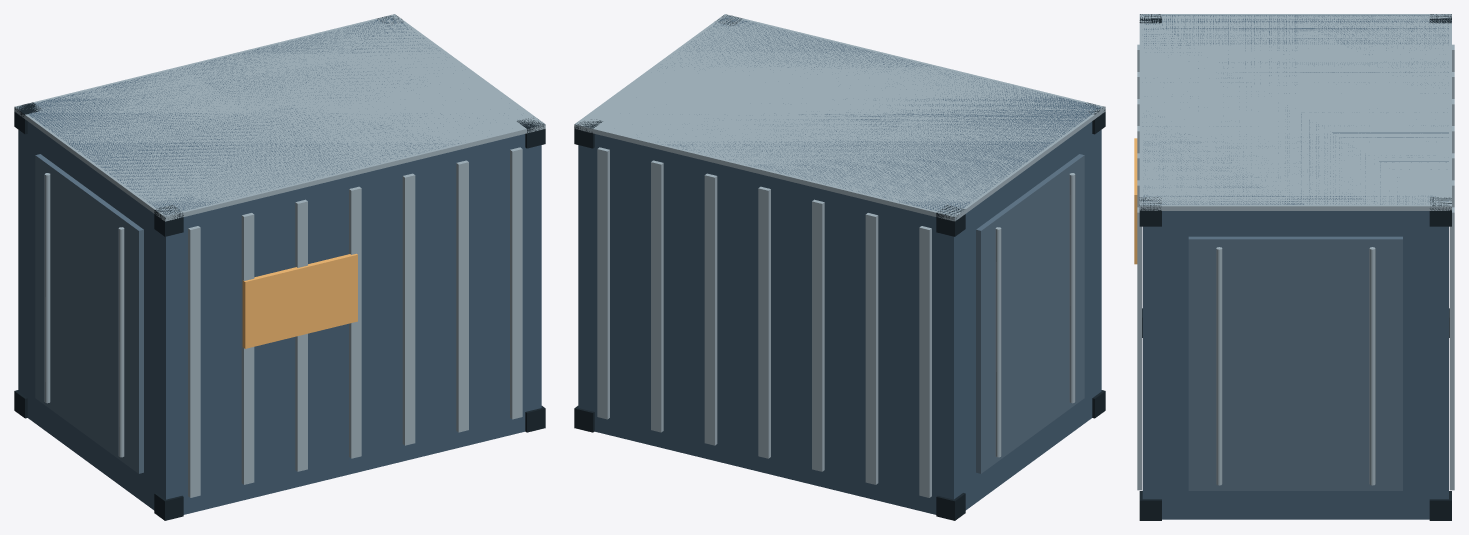
Rendered from cover-container-cp06.glb.
3 renders of one model, left to right at view 1: azimuth 30°, elevation 25°; view 2: azimuth 150°, elevation 25°; view 3: azimuth 270°, elevation 25°, orthographic. The views are drawn at different scales.
Parts seen in each view (by area): view 1: cover-container-merged (×4), Body; view 2: Body, cover-container-merged (×3); view 3: cover-container-merged (×4), Body.
Boxes of the visible parts, x1,y1,x2,y2 form: cover-container-merged (×4): [14, 14, 545, 520]; Body: [18, 16, 541, 514]; Body: [578, 16, 1101, 514]; cover-container-merged (×3): [574, 14, 1105, 520]; cover-container-merged (×4): [1134, 14, 1454, 520]; Body: [1142, 15, 1448, 519].
Bounding box in the file's own units: 4.64 × 3.4 × 3.13.
